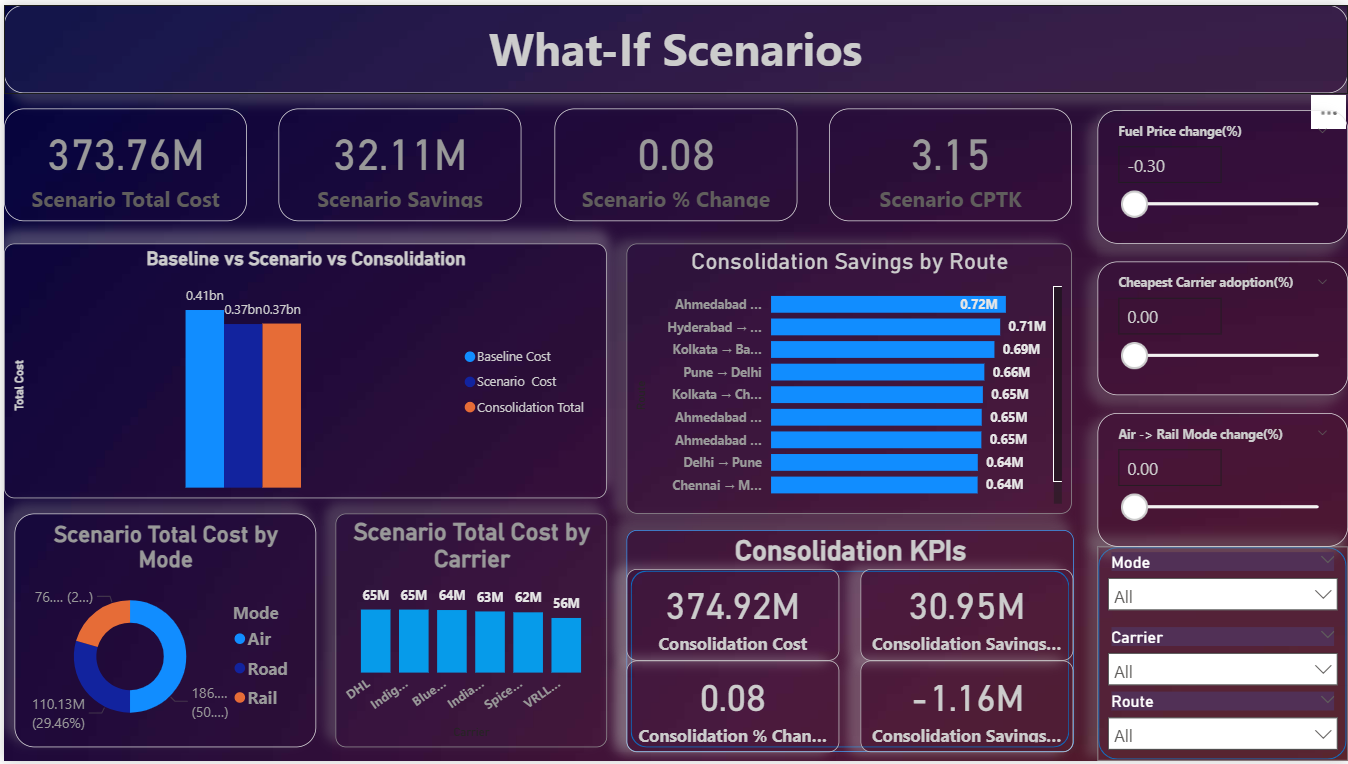

The dashboard page shown, as its layout file describes it:
{"tool":"powerbi","page":{"name":"What-if Scenarios","canvas":[1280,720],"ordinal":2},"visuals":[{"type":"shape","title":"Consolidation KPIs","box":[592.9,500,425.7,211.4],"z":0},{"type":"shape","box":[1041.4,515.7,238.6,204.3],"z":1000},{"type":"textbox","box":[0,0,1280,84.3],"z":2000},{"type":"slicer","fields":{"Values":["Fuel cost change.Fuel cost change"]},"box":[1041.4,100,238.6,127.1],"z":3000},{"type":"slicer","fields":{"Values":["Mode shift change 2.Mode shift change"]},"box":[1041.4,388.6,238.6,127.1],"z":4000},{"type":"slicer","fields":{"Values":["Carrier adoption.Carrier adoption"]},"box":[1041.4,244.3,238.6,127.1],"z":5000},{"type":"slicer","fields":{"Values":["DimRoute.Route"]},"box":[1041.4,648.6,238.6,71.4],"z":6000},{"type":"slicer","fields":{"Values":["shipments.Carrier"]},"box":[1041.4,587.1,238.6,61.4],"z":7000},{"type":"slicer","fields":{"Values":["shipments.Mode"]},"box":[1041.4,515.7,238.6,71.4],"z":8000},{"type":"card","fields":{"Values":["Scenario measure.Scenario Total Cost"]},"box":[0,98.6,231.4,107.1],"z":9000},{"type":"card","fields":{"Values":["Scenario measure.Scenario Savings"]},"box":[261.9,98.6,231.4,107.1],"z":12000},{"type":"card","fields":{"Values":["Scenario measure.Scenario % Change"]},"box":[523.8,98.6,231.4,107.1],"z":13000},{"type":"card","fields":{"Values":["Scenario measure.Scenario CPTK"]},"box":[785.7,98.6,231.4,107.1],"z":14000},{"type":"clusteredColumnChart","title":"Baseline vs  Scenario vs Consolidation ","fields":{"Y":["Shipments_measure.Total Cost","Scenario measure.Scenario Total Cost","Scenario measure.Consolidation Total (preset)"]},"box":[0,227.1,574.3,242.9],"z":15000},{"type":"clusteredBarChart","title":"Consolidation Savings by Route ","fields":{"Category":["DimRoute.Route"],"Y":["Consolidation_measure.Consolidation Savings by Route"]},"box":[592.9,227.1,424.3,257.1],"z":16000},{"type":"donutChart","fields":{"Y":["Scenario measure.Scenario Total Cost"],"Category":["shipments.Mode"]},"box":[10,484.3,287.1,222.9],"z":17000},{"type":"clusteredColumnChart","fields":{"Category":["shipments.Carrier"],"Y":["Scenario measure.Scenario Total Cost"]},"box":[315.7,484.3,258.6,222.9],"z":18000},{"type":"card","fields":{"Values":["Consolidation_measure.Consolidation Cost"]},"box":[592.9,537.1,202.9,87.1],"z":19000},{"type":"card","fields":{"Values":["Consolidation_measure.Consolidation % Change vs Baseline"]},"box":[592.9,624.3,202.9,87.1],"z":20000},{"type":"card","fields":{"Values":["Consolidation_measure.Consolidation Savings vs Scenario"]},"box":[815.7,624.3,202.9,87.1],"z":21000},{"type":"card","fields":{"Values":["Consolidation_measure.Consolidation Savings vs Baseline"]},"box":[815.7,537.1,202.9,87.1],"z":22000}]}

Visuals, with their boxes in screenshot pixels (x1, y1, x2, y2), scaled from the page's 1280x720 canvas onto the 1348x764 screenshot:
"Consolidation KPIs" shape: bbox=(624, 531, 1073, 755)
shape: bbox=(1097, 547, 1347, 763)
textbox: bbox=(0, 0, 1347, 89)
slicer - Fuel cost change.Fuel cost change: bbox=(1097, 106, 1347, 241)
slicer - Mode shift change 2.Mode shift change: bbox=(1097, 412, 1347, 547)
slicer - Carrier adoption.Carrier adoption: bbox=(1097, 259, 1347, 394)
slicer - DimRoute.Route: bbox=(1097, 688, 1347, 763)
slicer - shipments.Carrier: bbox=(1097, 623, 1347, 688)
slicer - shipments.Mode: bbox=(1097, 547, 1347, 623)
card - Scenario measure.Scenario Total Cost: bbox=(0, 105, 244, 218)
card - Scenario measure.Scenario Savings: bbox=(276, 105, 520, 218)
card - Scenario measure.Scenario % Change: bbox=(552, 105, 795, 218)
card - Scenario measure.Scenario CPTK: bbox=(827, 105, 1071, 218)
"Baseline vs  Scenario vs Consolidation " clusteredColumnChart: bbox=(0, 241, 605, 499)
"Consolidation Savings by Route " clusteredBarChart: bbox=(624, 241, 1071, 514)
donutChart - Scenario measure.Scenario Total Cost x shipments.Mode: bbox=(11, 514, 313, 750)
clusteredColumnChart - shipments.Carrier x Scenario measure.Scenario Total Cost: bbox=(332, 514, 605, 750)
card - Consolidation_measure.Consolidation Cost: bbox=(624, 570, 838, 662)
card - Consolidation_measure.Consolidation % Change vs Baseline: bbox=(624, 662, 838, 755)
card - Consolidation_measure.Consolidation Savings vs Scenario: bbox=(859, 662, 1073, 755)
card - Consolidation_measure.Consolidation Savings vs Baseline: bbox=(859, 570, 1073, 662)
